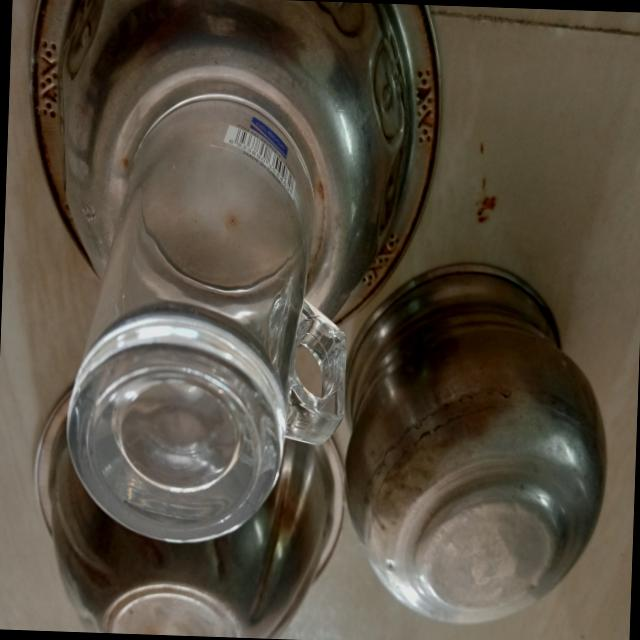glass-VX4N: (60, 87, 357, 546)
